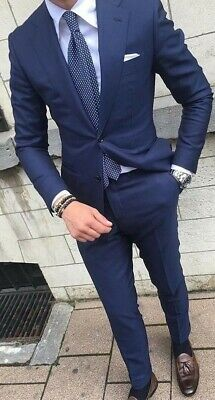F_M_suit jacket: (11, 1, 215, 195)
F_dress pants: (68, 173, 202, 361)
F_dress shoes: (170, 344, 200, 396)
F_pocket square: (118, 43, 148, 66)
F_tie: (59, 11, 121, 179)
